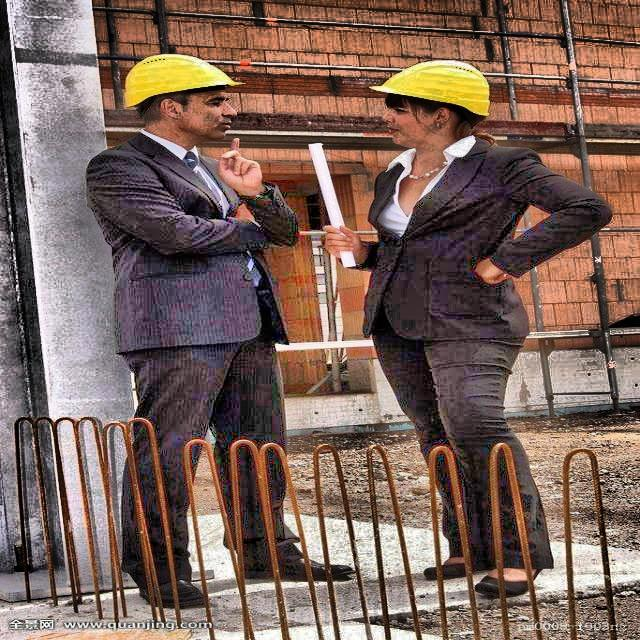person: (342, 54, 623, 595), (89, 49, 339, 599)
